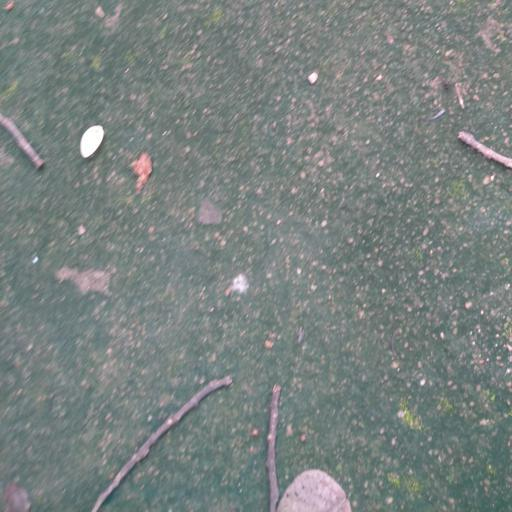algae: (1, 3, 512, 512)
